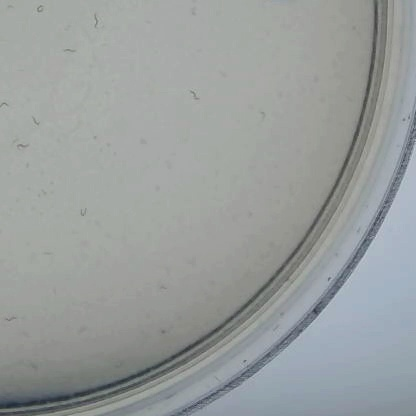worm: (32, 1, 56, 22), (28, 109, 46, 136), (89, 8, 105, 36), (57, 44, 84, 59), (73, 207, 100, 222), (185, 87, 207, 104), (14, 139, 36, 155), (0, 313, 22, 328), (0, 98, 14, 118), (255, 105, 271, 122), (37, 244, 54, 259)
